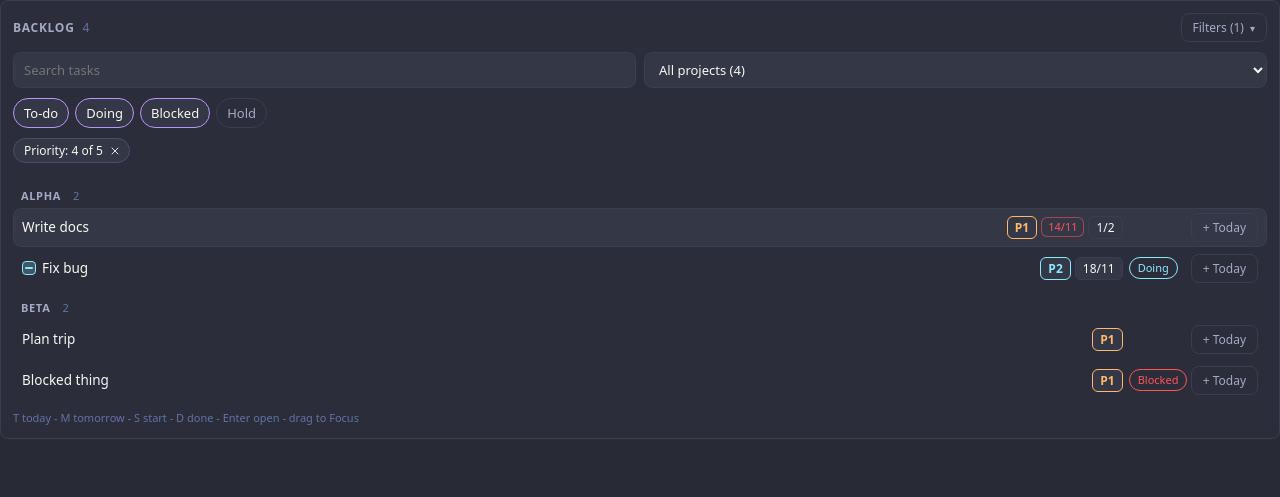
Test: BacklogPanel › toggles status filters and stores them
Click the button "Hold".
click(242, 113)  # box [216, 98, 267, 128]
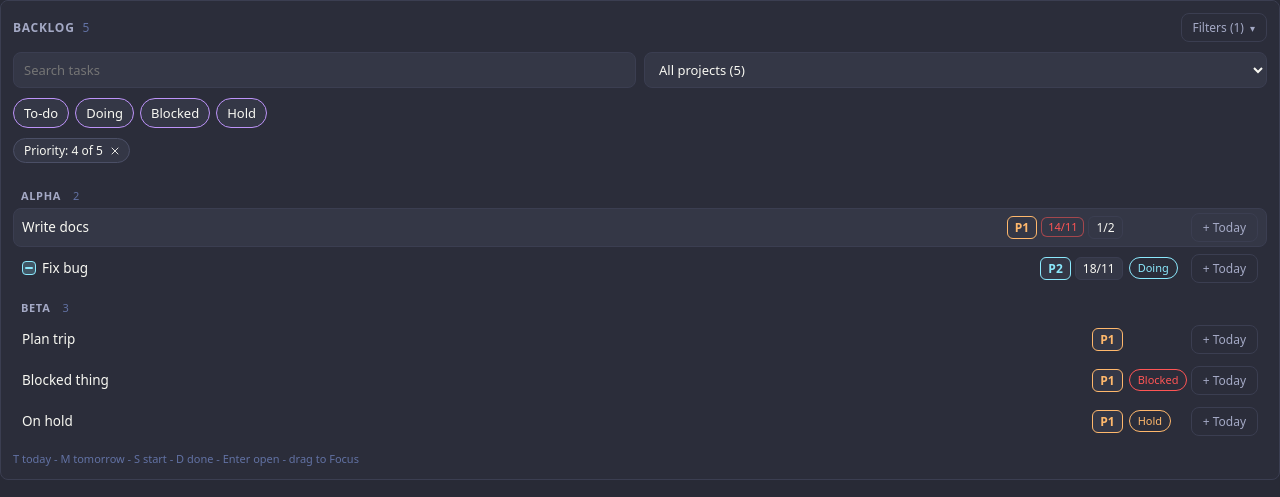
expect the text "On hold" is shown: met, box [22, 412, 73, 430]
Click the button "To-do".
click(41, 113)  # box [13, 98, 69, 128]
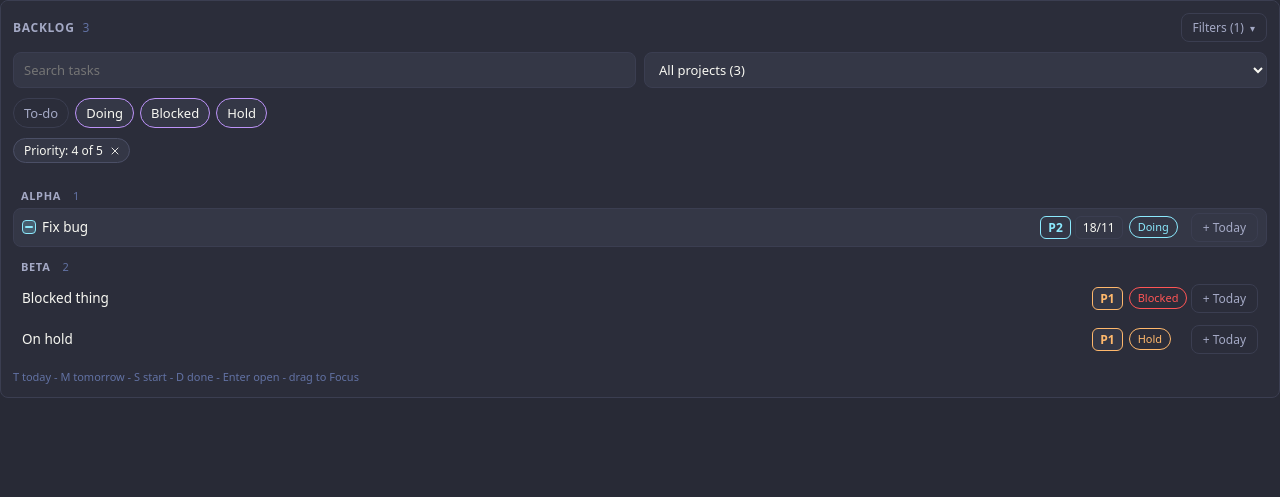
expect the text "Write docs" is gone: met
